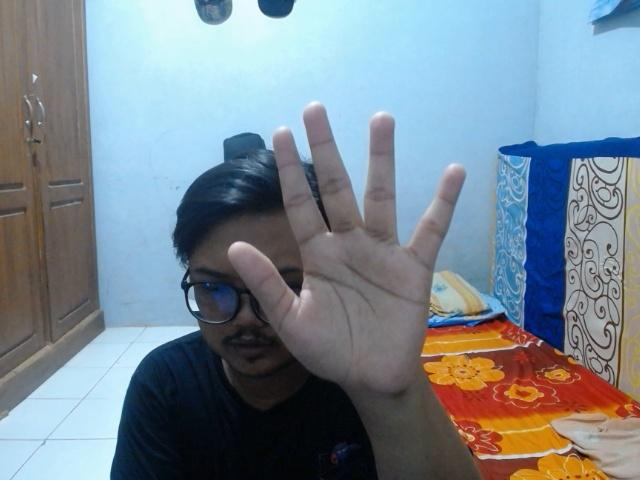Release: (222, 94, 469, 397)
